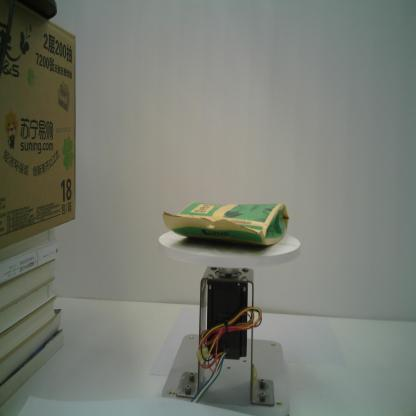Dried Food: (158, 193, 292, 253)
